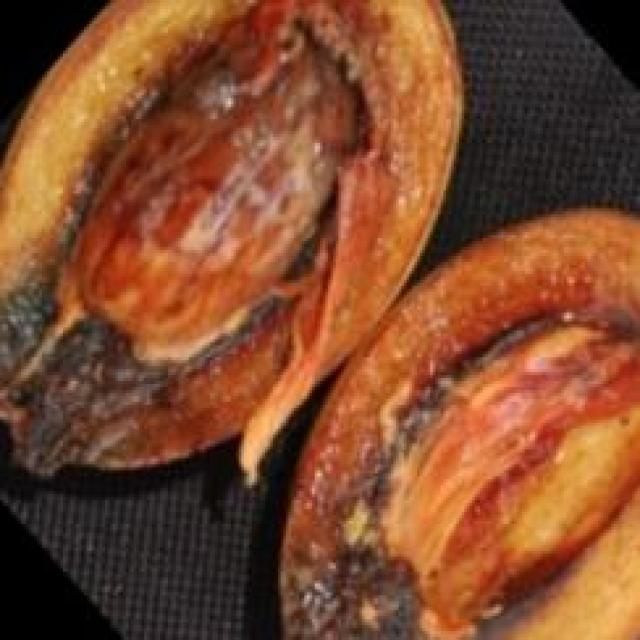damaged: (0, 0, 462, 473), (281, 208, 637, 637)
